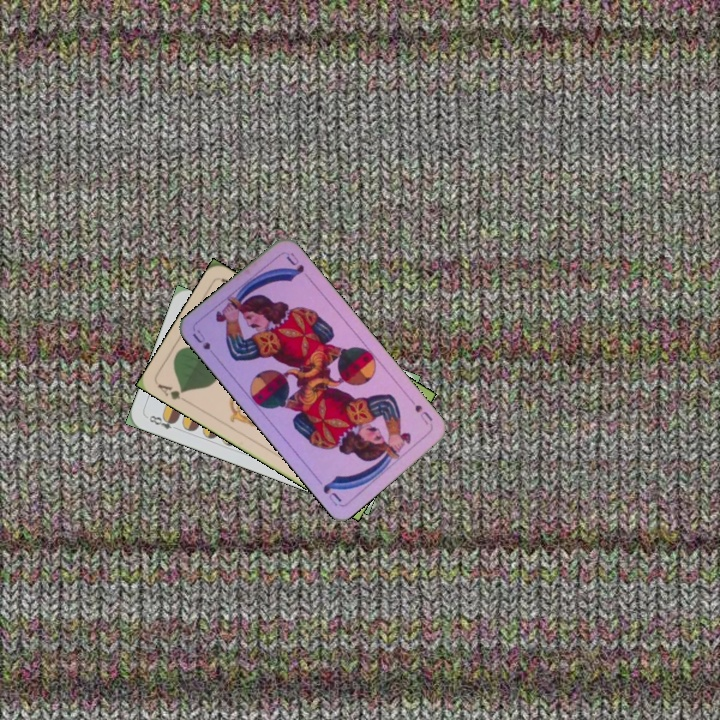E8: (145, 411, 182, 433)
GA: (153, 380, 191, 406)
SU: (188, 326, 220, 362), (405, 394, 435, 428)
